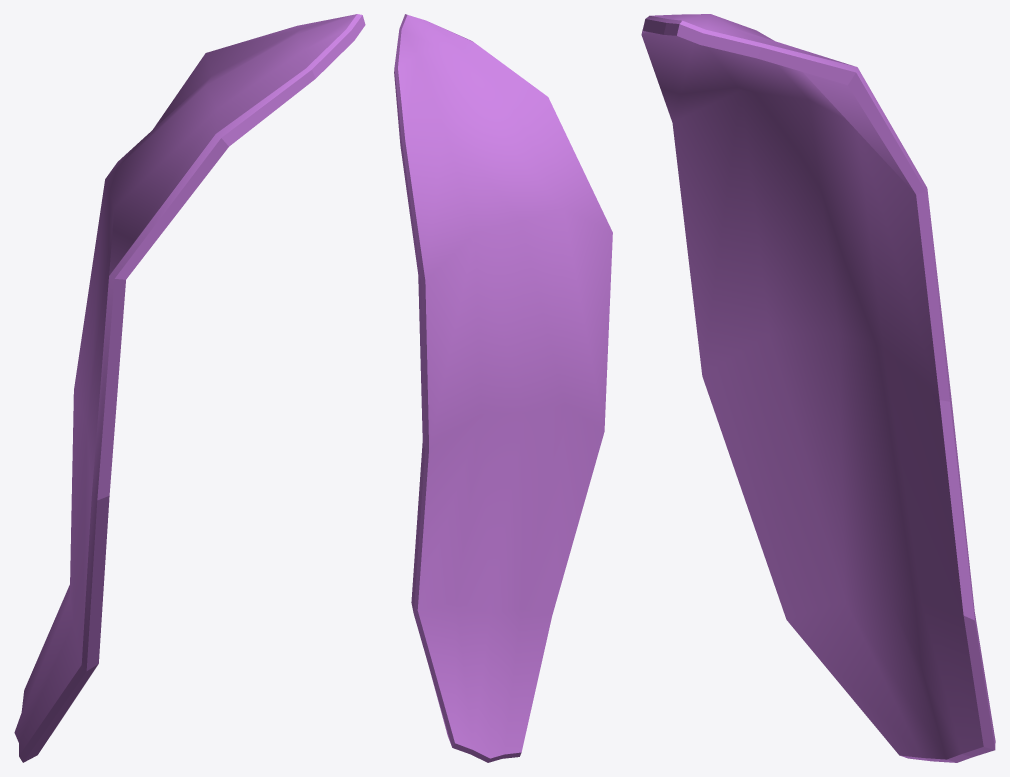
Rendered from Friday_Leaf2.fbx.
The picture shows the model from 3 angles, left to right: view 1: azimuth 30°, elevation 25°; view 2: azimuth 150°, elevation 25°; view 3: azimuth 270°, elevation 25°; orthographic projection. The views are drawn at different scales.
Parts seen in each view (by area): view 1: polySurface7; view 2: polySurface7; view 3: polySurface7.
Boxes of the visible parts, bbox=[...] form: polySurface7: bbox=[14, 14, 365, 762]; polySurface7: bbox=[394, 14, 612, 762]; polySurface7: bbox=[641, 14, 995, 762].
Size of the model in its own units: 2.46 by 6.98 by 2.58.
